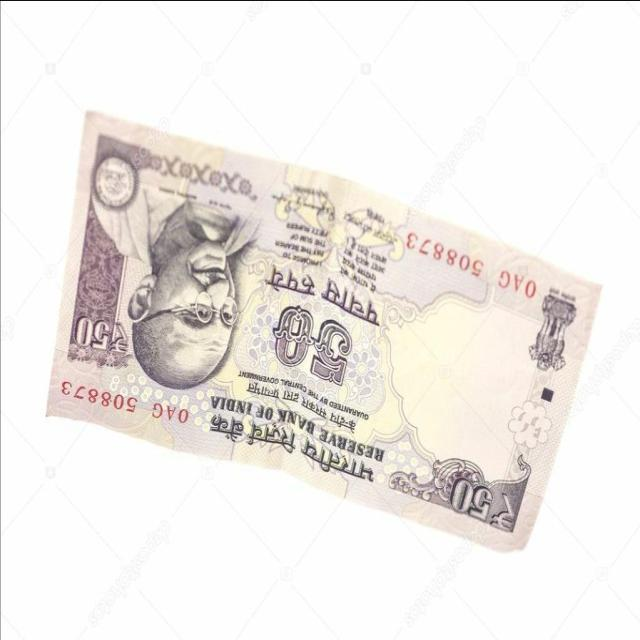50IndianRupees: (46, 115, 581, 560)
